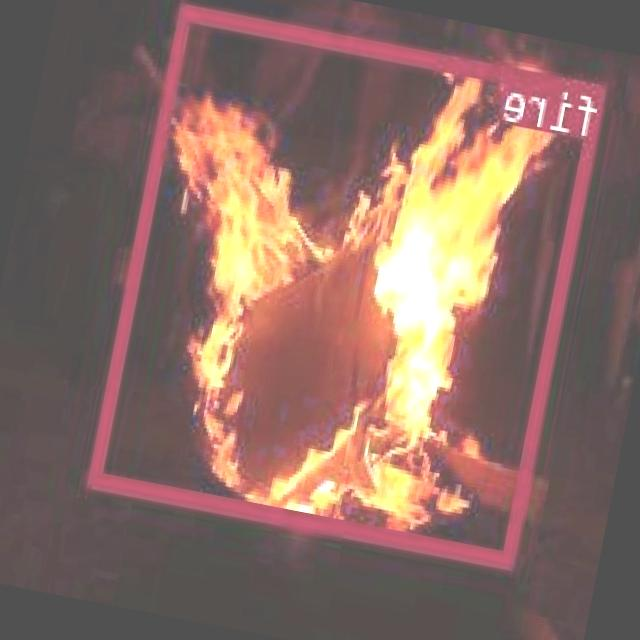fire: (90, 1, 609, 568)
